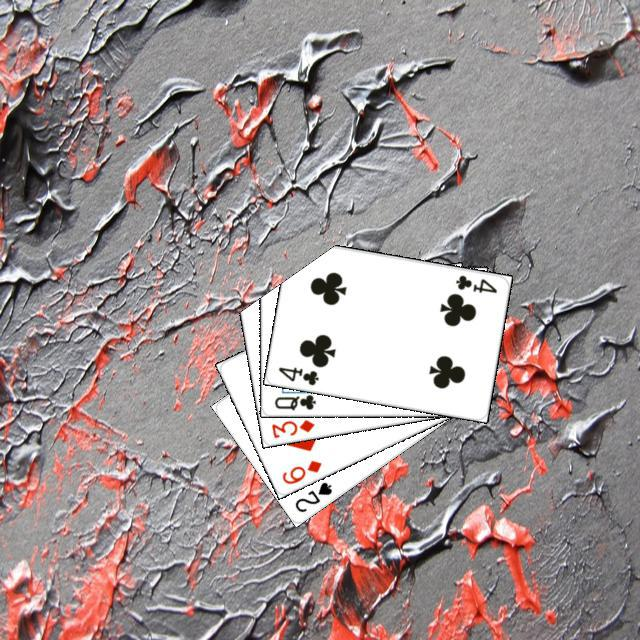2s: (290, 477, 334, 514)
3d: (267, 415, 316, 440)
4c: (451, 270, 499, 295), (273, 362, 320, 387)
6d: (277, 455, 323, 486)
Qc: (269, 385, 322, 412)
